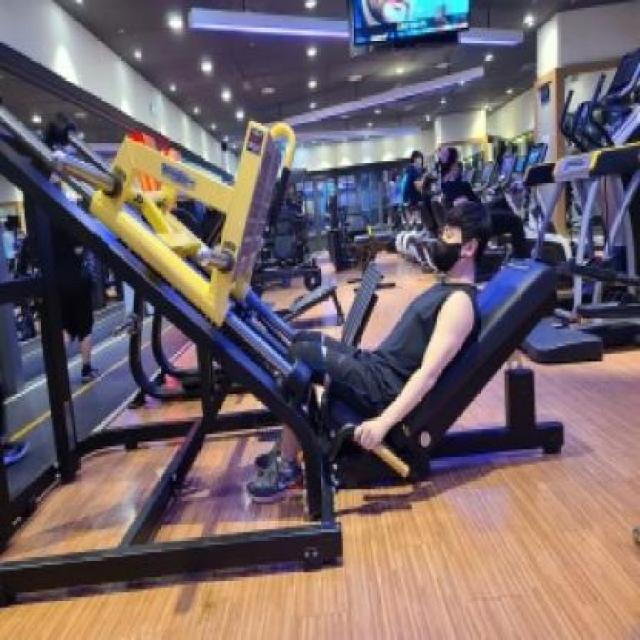leg press: (0, 42, 572, 615)
